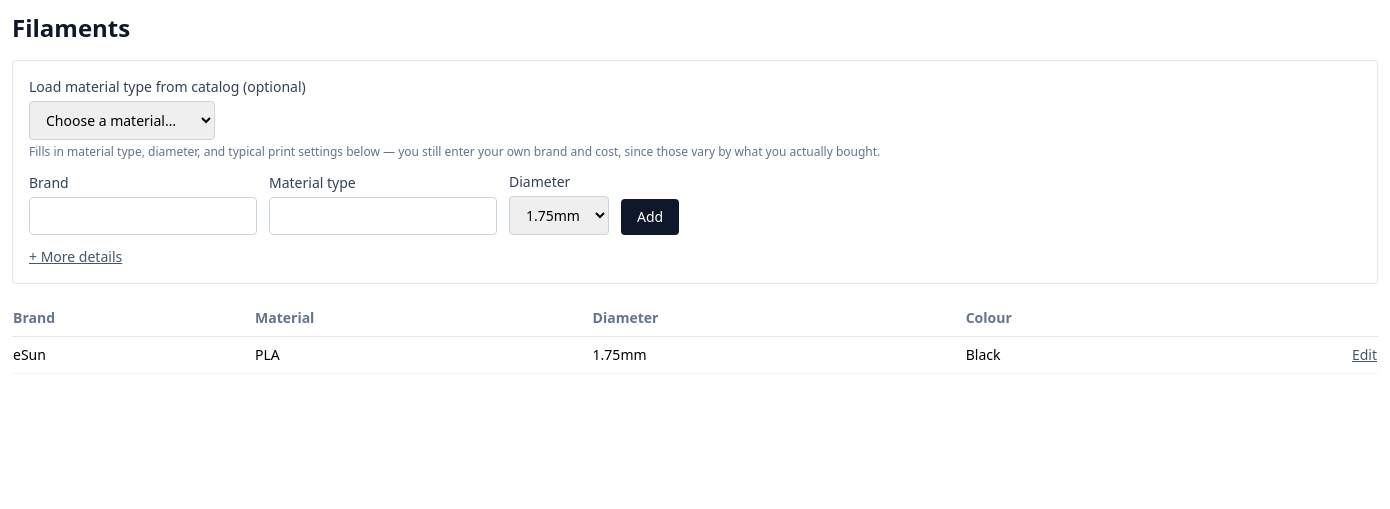
Test: FilamentsListPage — edit in place › clicking Edit shows that row pre-filled with its current values
The image size is (1390, 509).
Check: the text "eSun" is shown, box [12,336,254,374]
Click the button "Edit" at (1364, 355), box [1352,345,1377,365]
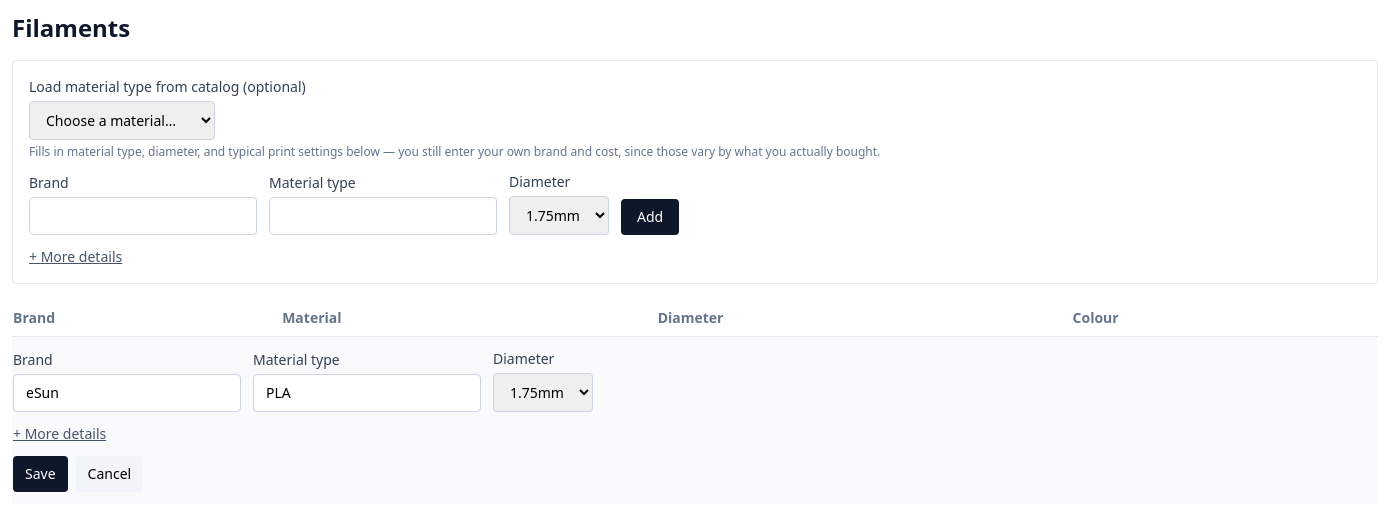
Check: the 2nd field labelled "Brand" holds "eSun", box [13,374,241,412]
Check: the 2nd field labelled "Material type" holds "PLA", box [253,374,481,412]
